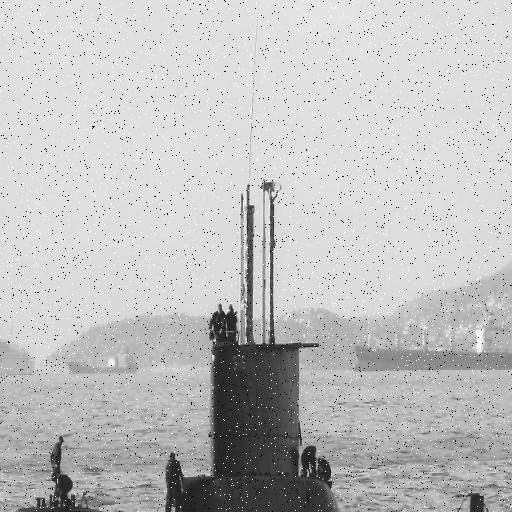submarine: (9, 159, 512, 512)
